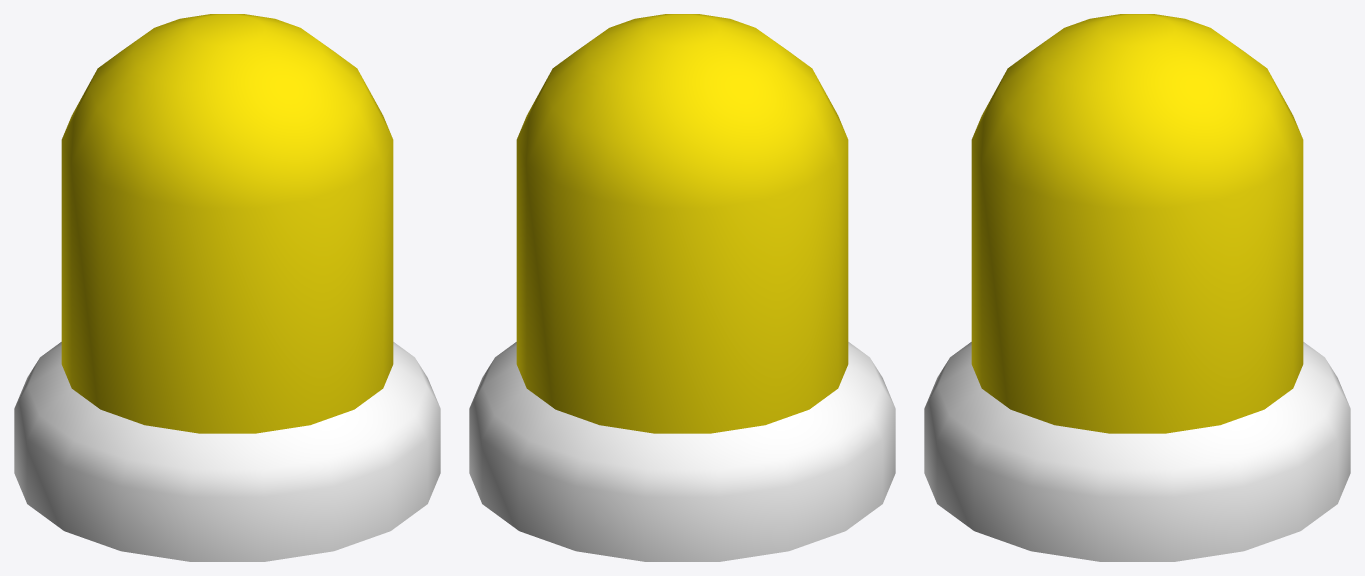
File: LED_1_Yellow.fbx
3 views of the same model, side by side, from view 1: azimuth 30°, elevation 25°; view 2: azimuth 150°, elevation 25°; view 3: azimuth 270°, elevation 25° (orthographic).
Parts seen in each view (by area): view 1: LED_1_Yellow; view 2: LED_1_Yellow; view 3: LED_1_Yellow.
Part boxes in pixels (x1=…): LED_1_Yellow: x1=14, y1=14, x2=440, y2=561; LED_1_Yellow: x1=469, y1=14, x2=895, y2=561; LED_1_Yellow: x1=924, y1=14, x2=1350, y2=561.
Bounding box in the file's own units: 23.66 × 27.52 × 24.03.
